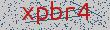4: (76, 2, 94, 24)
b: (48, 1, 64, 26)
p: (34, 5, 49, 27)
r: (64, 3, 76, 28)
x: (16, 2, 36, 26)
